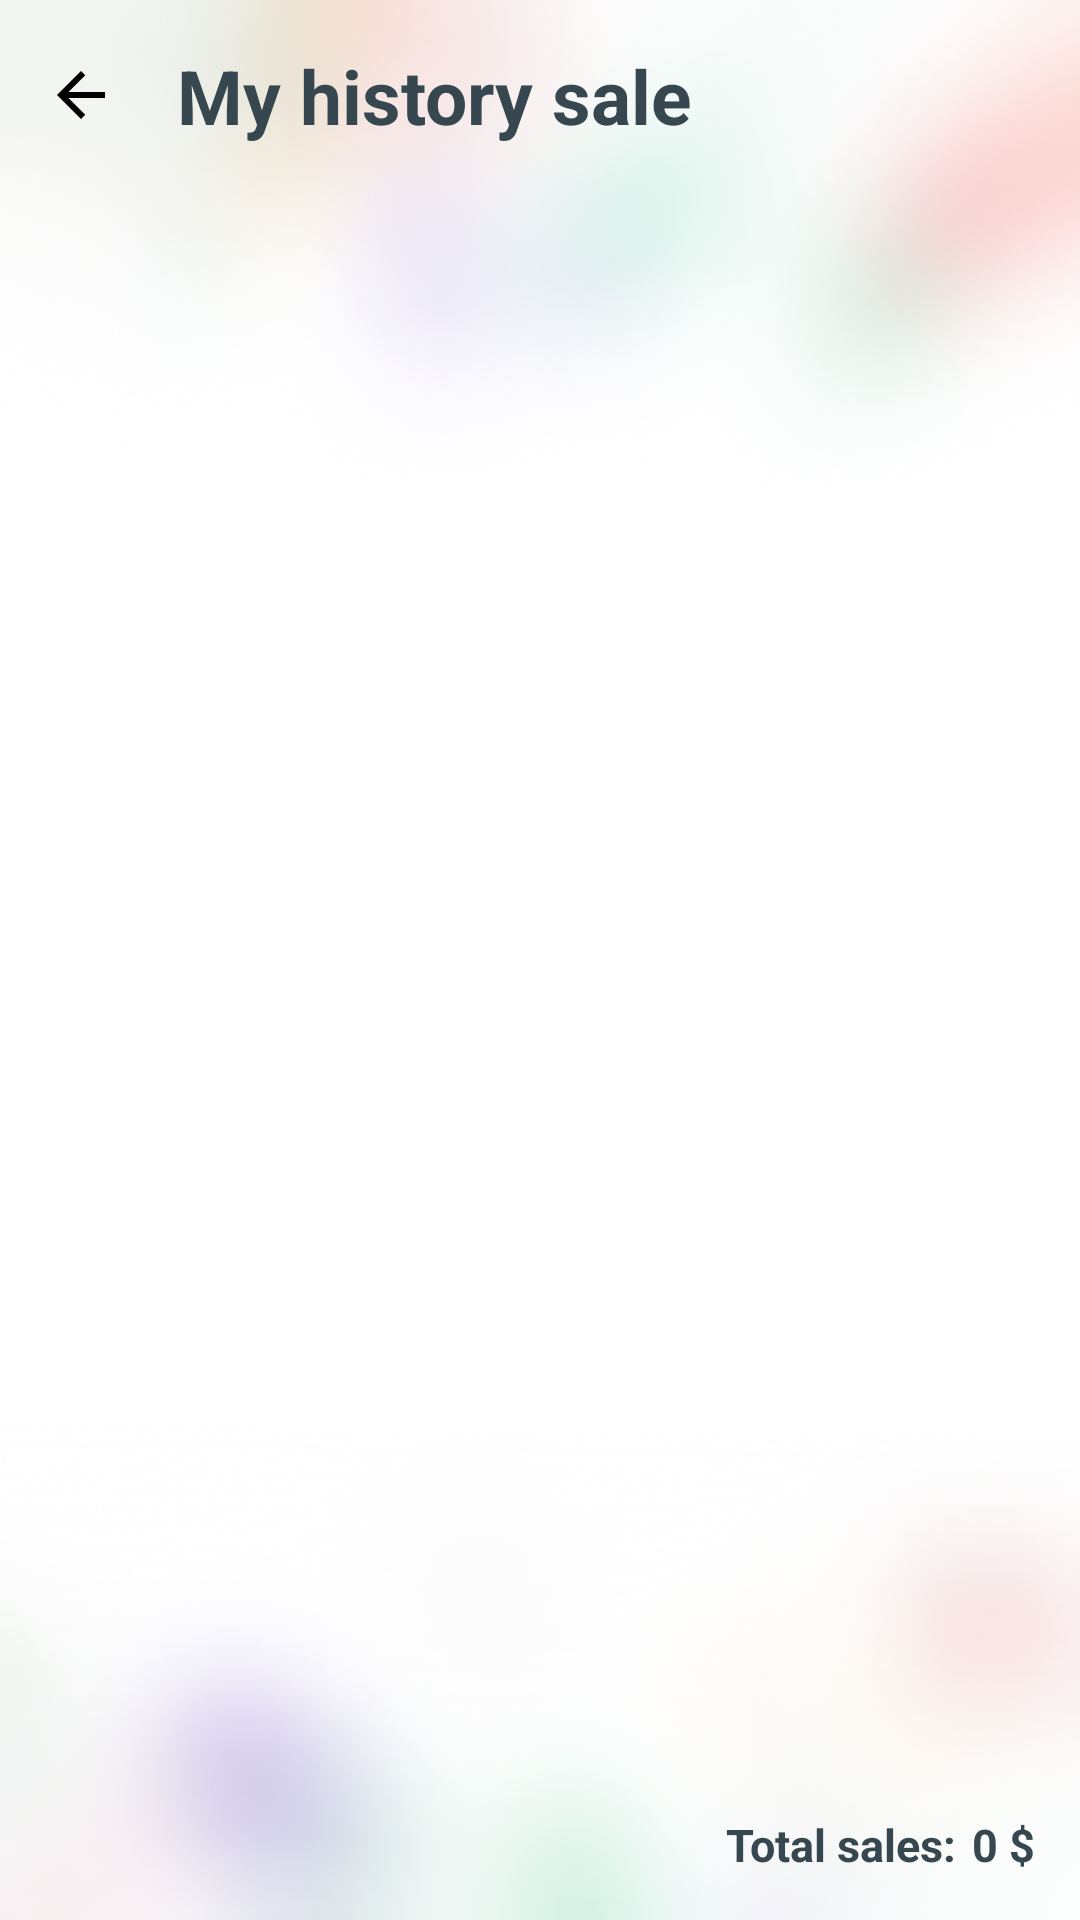

Named icons in this screenshot (1080*1920) and their centers, point (x, y):
arrow back: point (81, 95)
